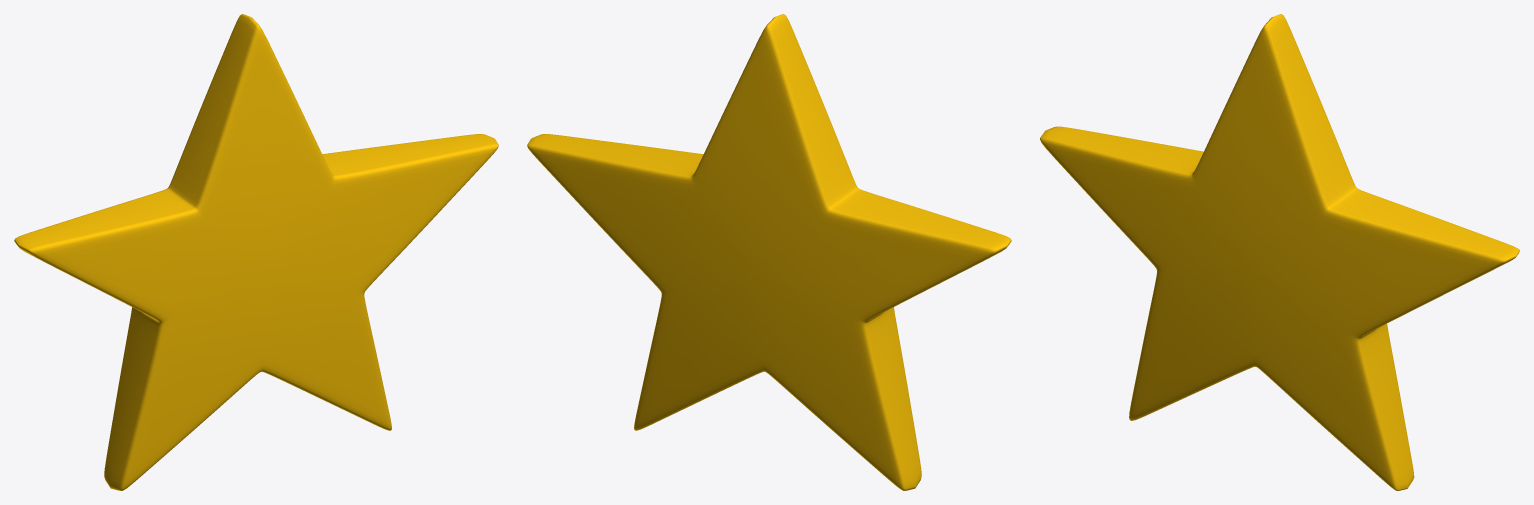
Rendered from star.glb.
3 views of the same model, side by side, from view 1: azimuth 30°, elevation 25°; view 2: azimuth 150°, elevation 25°; view 3: azimuth 330°, elevation 25° (orthographic).
Parts seen in each view (by area): view 1: Star; view 2: Star; view 3: Star.
Boxes of the visible parts, <box> form: Star: <box>14,14,498,490</box>; Star: <box>527,14,1011,490</box>; Star: <box>1040,14,1519,490</box>.
Size of the model in its own units: 0.7148 by 0.6359 by 0.0921.
